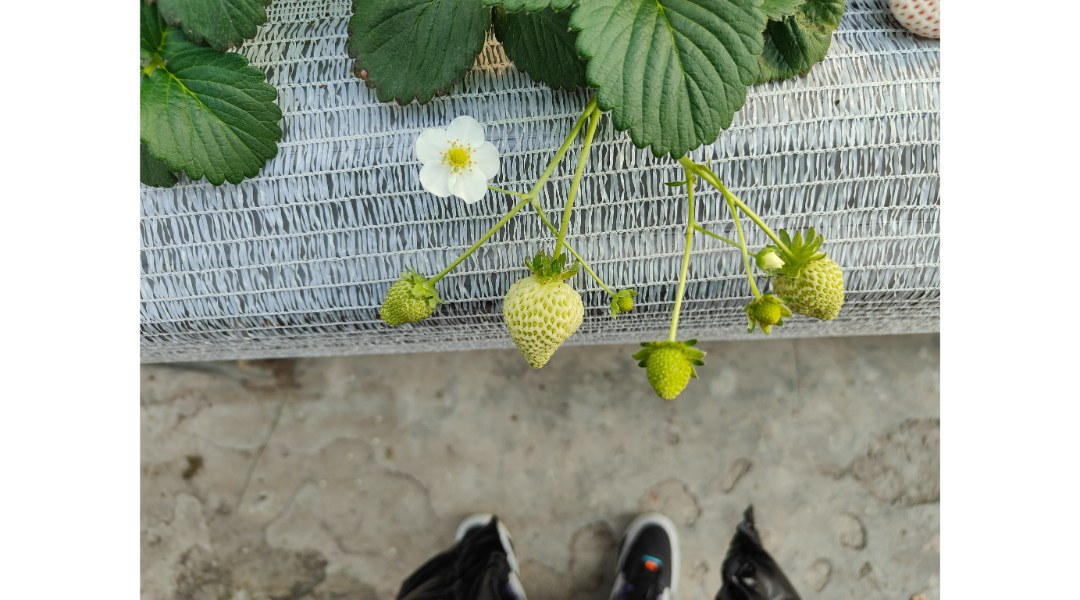berry: (492, 260, 600, 381), (769, 220, 876, 342), (633, 325, 719, 418), (370, 266, 445, 340), (745, 290, 795, 341), (754, 248, 785, 271)
flower: (408, 111, 500, 210)
strain: (450, 201, 521, 276), (561, 115, 597, 231), (668, 187, 694, 322), (535, 125, 580, 191), (702, 225, 736, 250), (733, 199, 750, 241), (739, 257, 757, 287)
